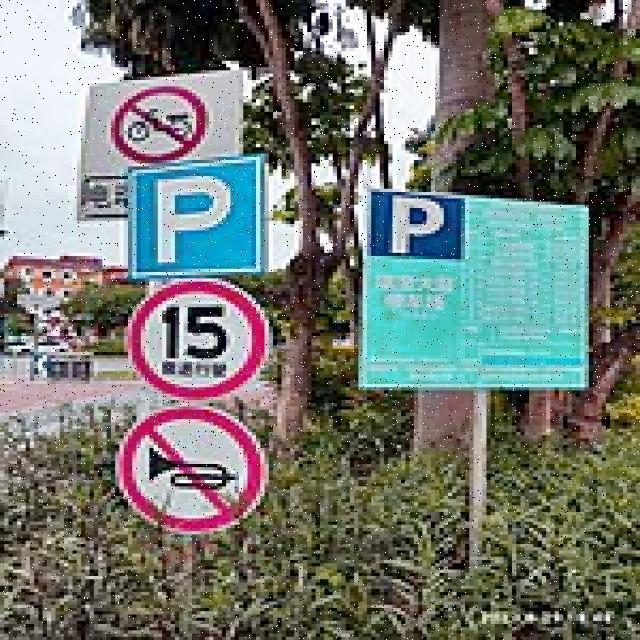Traffic sign: (116, 152, 276, 539)
